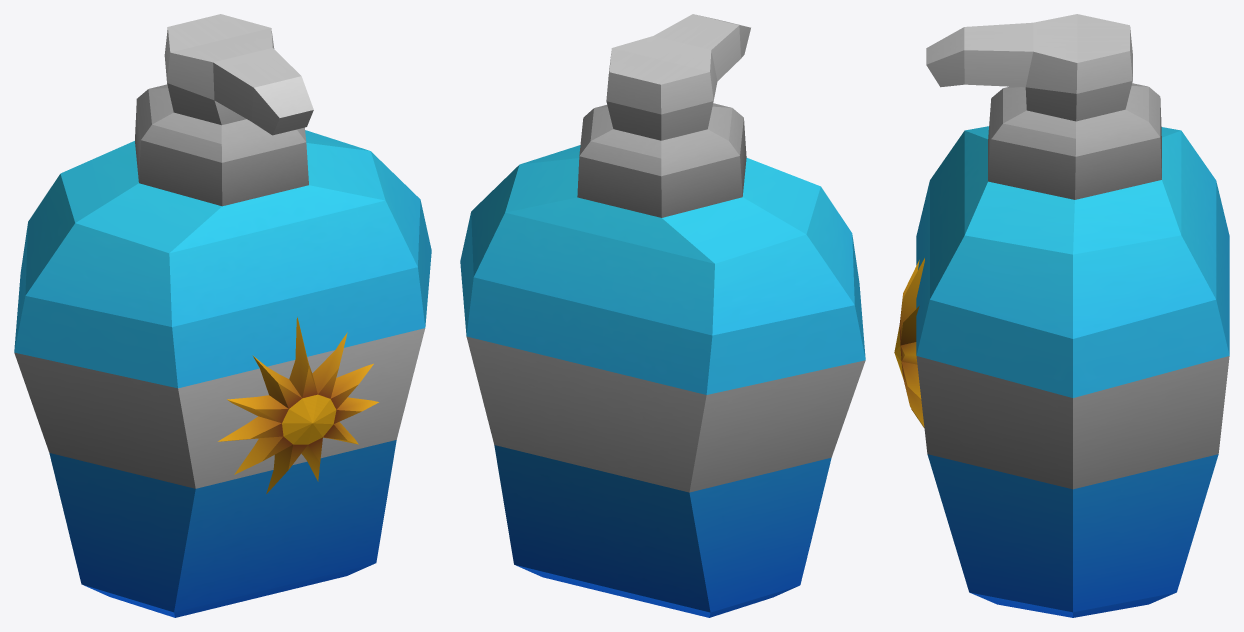
Rendered from bloqueadorSolarPompa.fbx.
The picture shows the model from 3 angles, left to right: view 1: azimuth 30°, elevation 25°; view 2: azimuth 150°, elevation 25°; view 3: azimuth 270°, elevation 25°; orthographic projection. The views are drawn at different scales.
Parts seen in each view (by area): view 1: bloqueadorSolar; view 2: bloqueadorSolar; view 3: bloqueadorSolar.
Part boxes in pixels (bbox=[...]): bloqueadorSolar: bbox=[14, 14, 431, 617]; bloqueadorSolar: bbox=[460, 14, 865, 617]; bloqueadorSolar: bbox=[894, 14, 1229, 617].
Size of the model in its own units: 47.88 by 57.93 by 33.48.
1 material, 1 textured.
